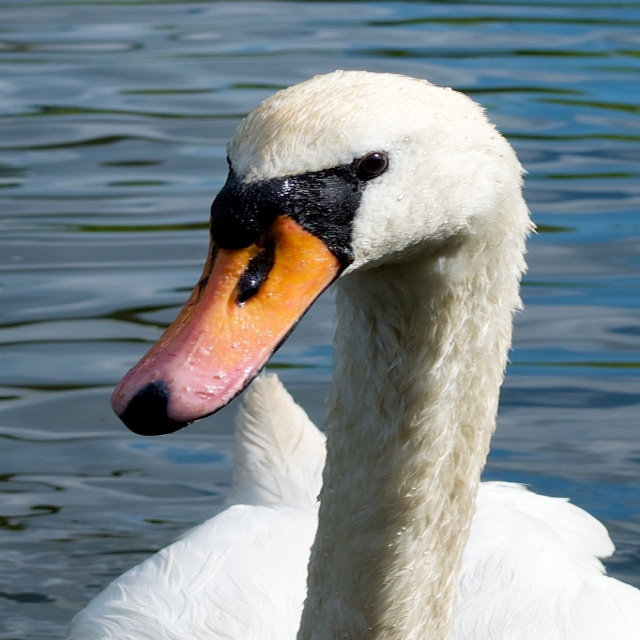Duck: (69, 92, 611, 640)
